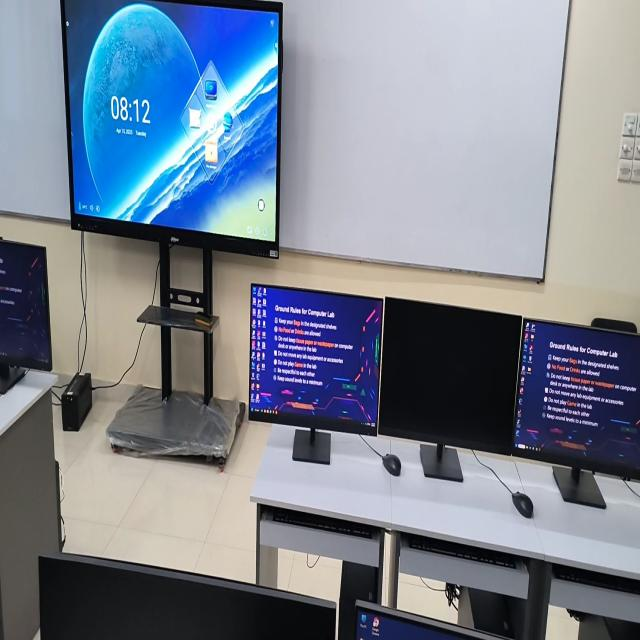Digital board: (61, 0, 282, 258)
Monitor: (39, 553, 336, 639), (379, 297, 522, 454), (249, 283, 383, 434), (514, 319, 640, 476), (0, 238, 51, 370), (355, 600, 504, 639)
Mouse: (512, 492, 533, 518), (382, 454, 401, 476)
